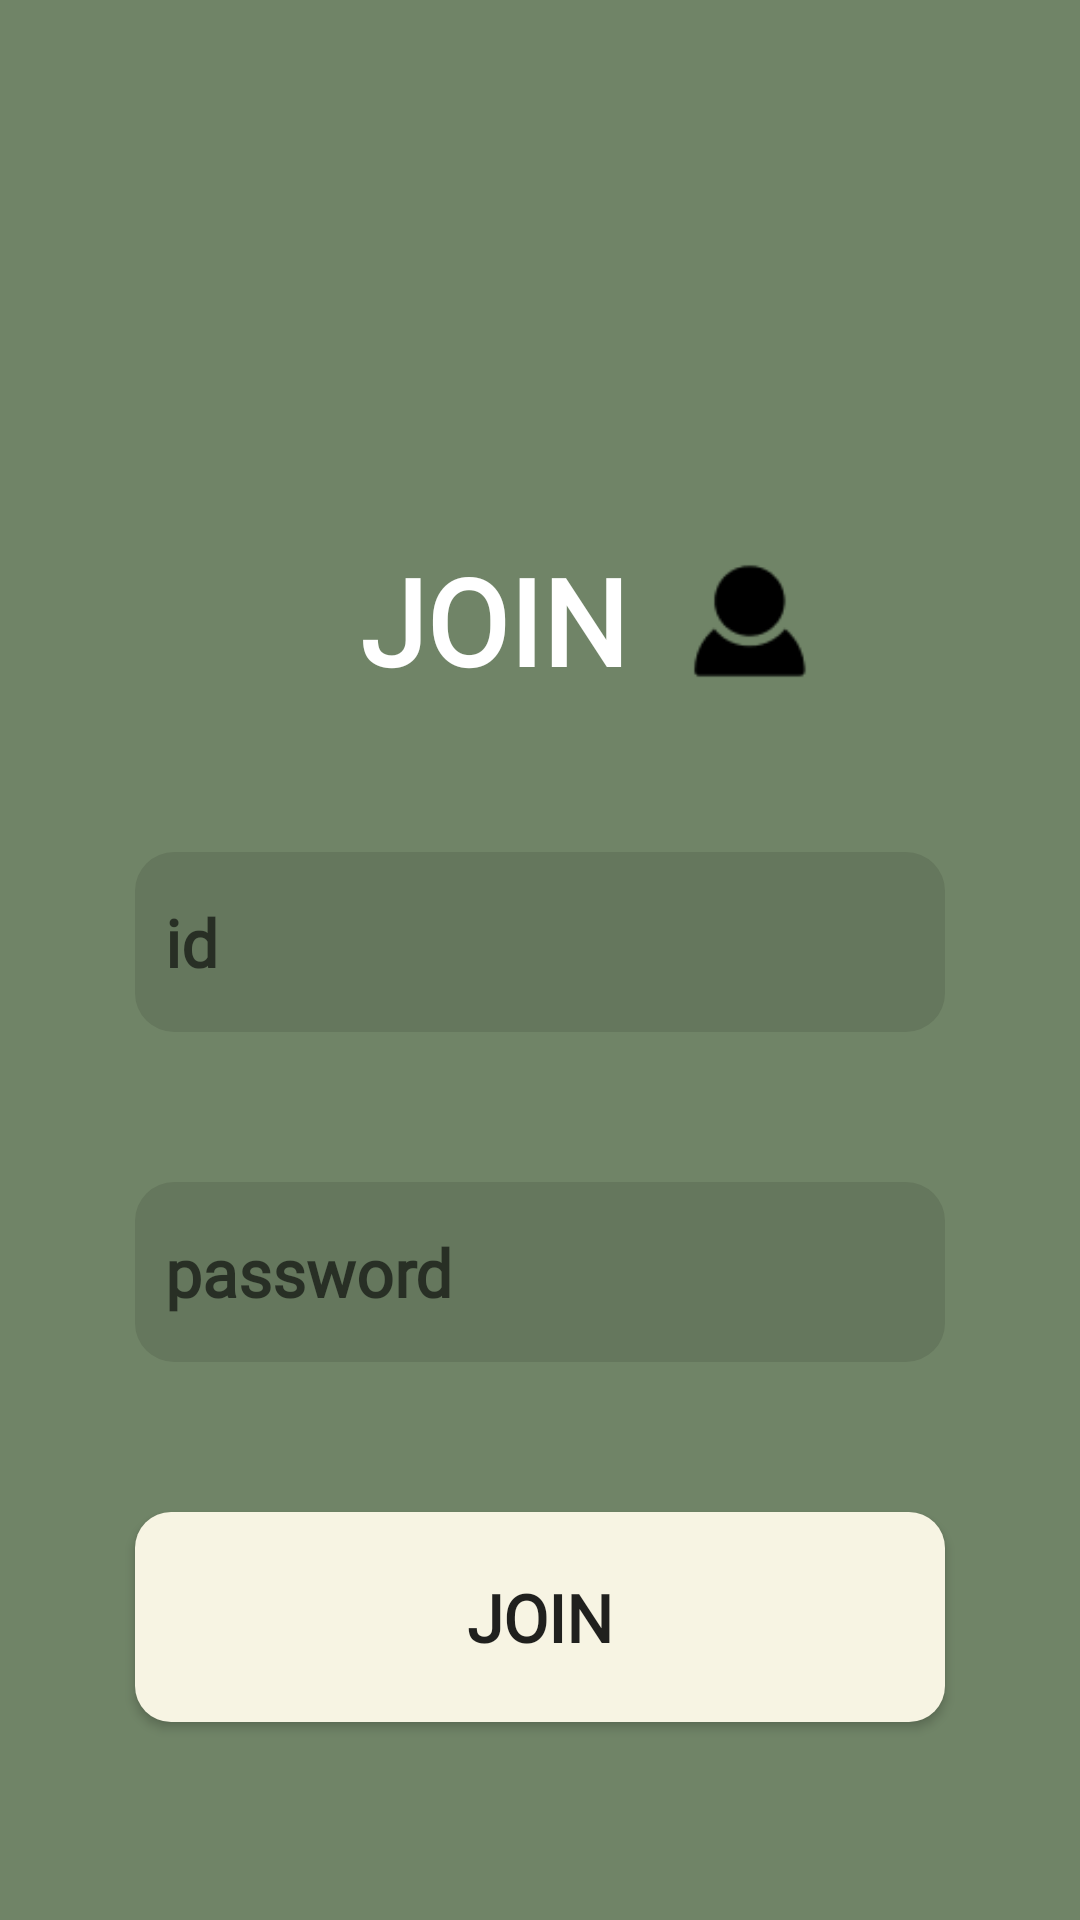

Named icons in this screenshot (1080×1920) and their bounding boxes, (x1, y1, x2, y2):
mypage: (694, 565, 806, 677)
